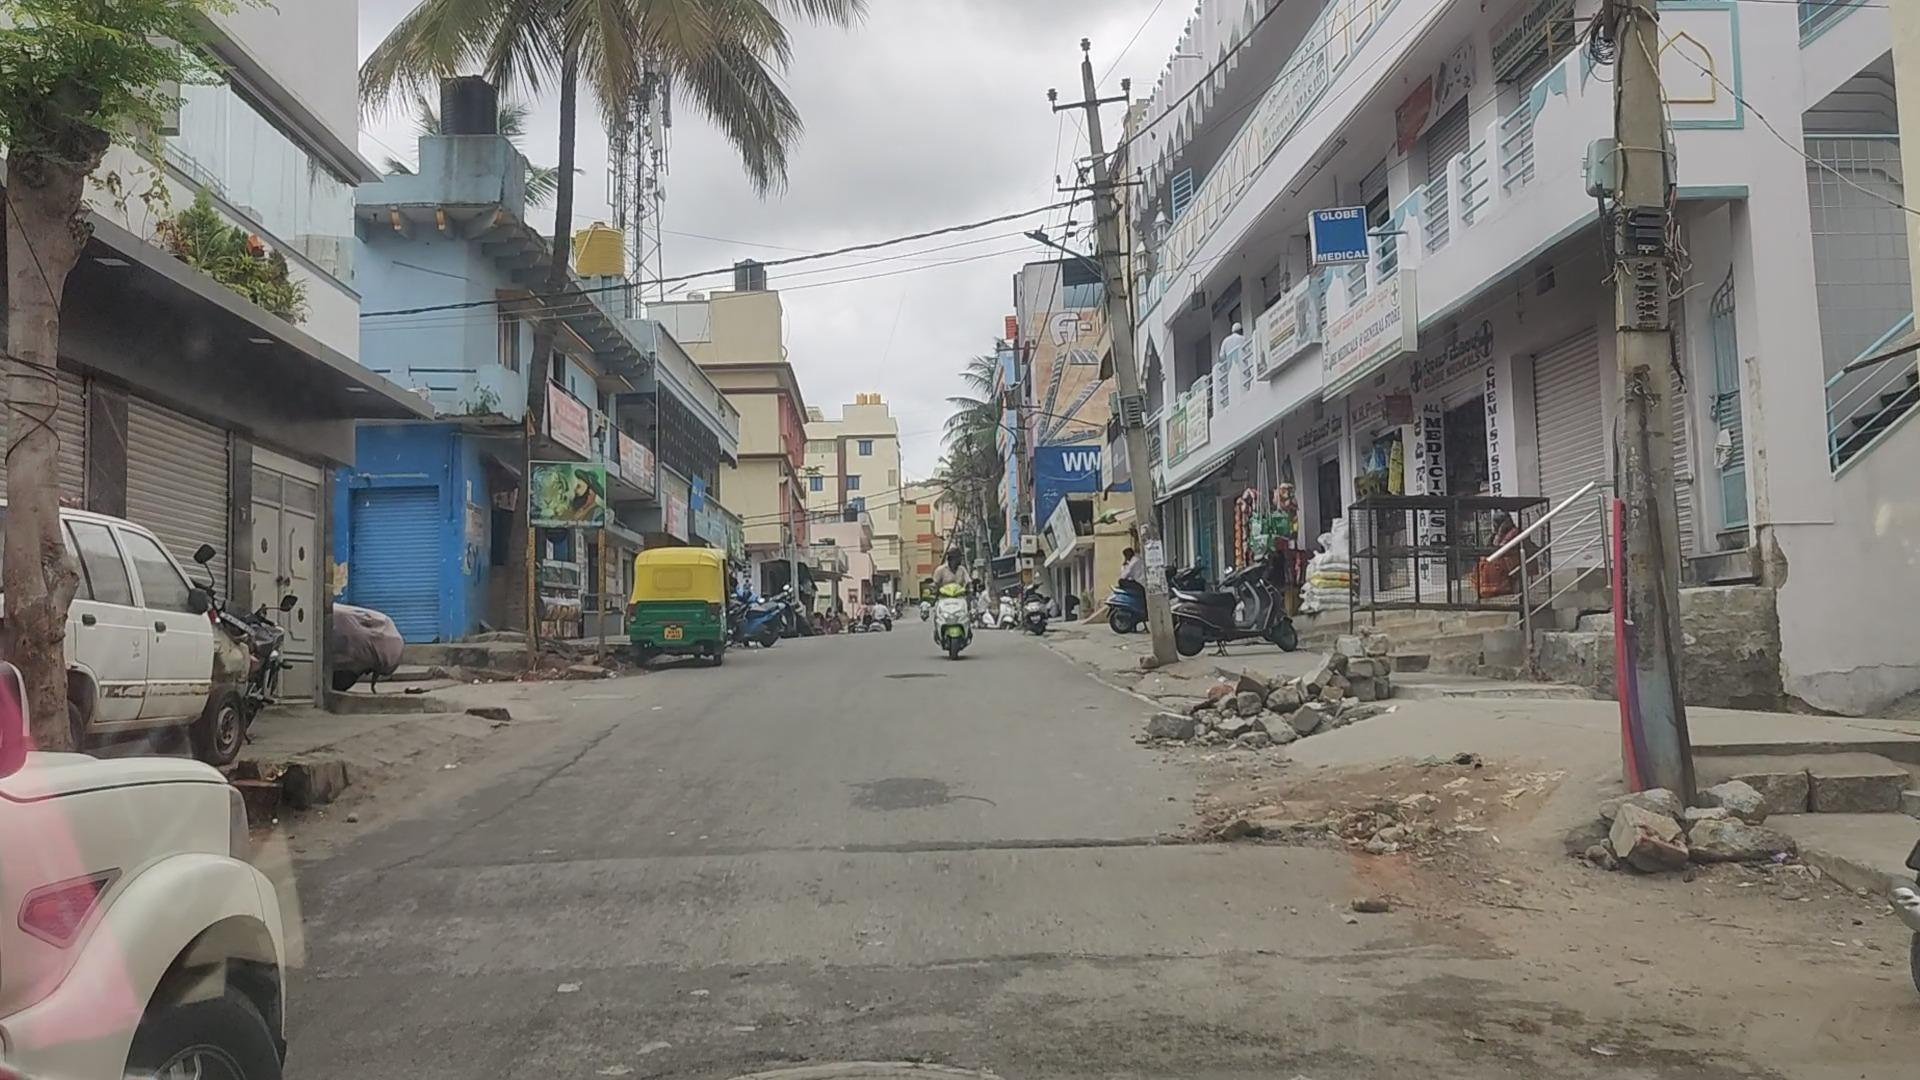RoadDamages: (894, 808, 1351, 902)
